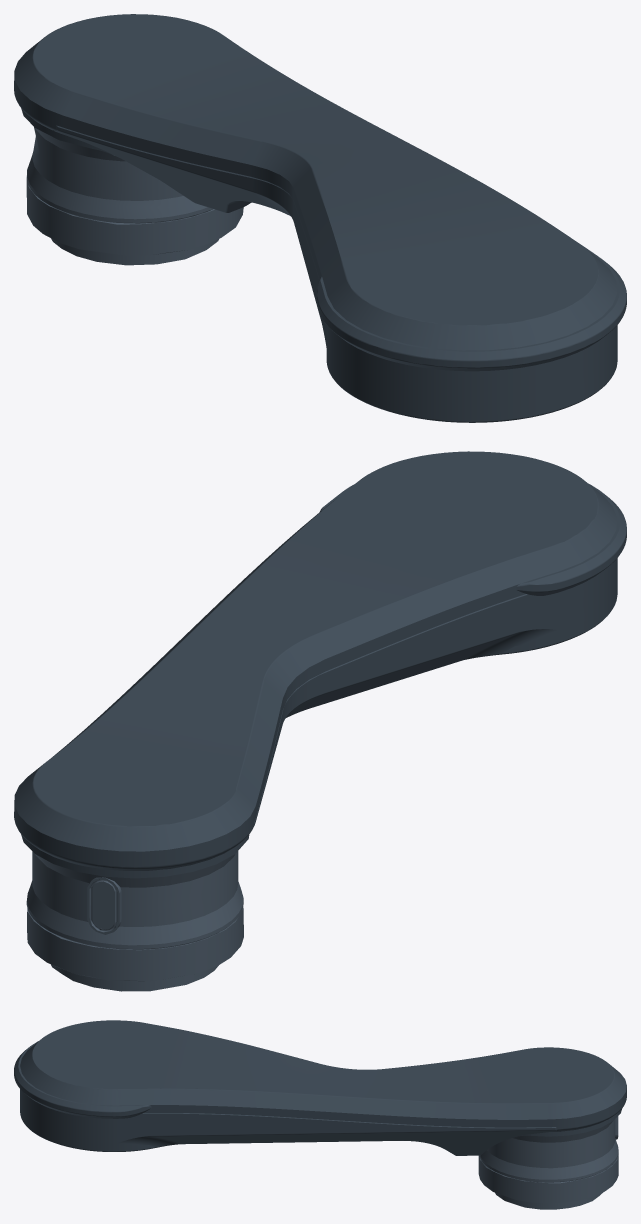
Rendered from fr_knee.obj.
3 renders of one model, top to bottom at view 1: azimuth 30°, elevation 25°; view 2: azimuth 150°, elevation 25°; view 3: azimuth 270°, elevation 25°, orthographic. The views are drawn at different scales.
Parts seen in each view (by area): view 1: 圆角1, 移动面10, 切除-拉伸49, 圆角16; view 2: 圆角1, 移动面10, 切除-拉伸49, 圆角16; view 3: 圆角1, 移动面10, 切除-拉伸49, 圆角16.
Boxes of the visible parts, left/top/right/bottom form: 圆角1: left=14, top=14, right=626, bottom=371; 移动面10: left=21, top=108, right=617, bottom=422; 切除-拉伸49: left=27, top=127, right=212, bottom=223; 圆角16: left=26, top=176, right=243, bottom=265; 圆角1: left=14, top=451, right=626, bottom=870; 移动面10: left=21, top=558, right=617, bottom=878; 切除-拉伸49: left=26, top=851, right=243, bottom=949; 圆角16: left=27, top=908, right=243, bottom=991; 圆角1: left=14, top=1020, right=626, bottom=1131; 移动面10: left=20, top=1089, right=622, bottom=1155; 切除-拉伸49: left=479, top=1116, right=618, bottom=1182; 圆角16: left=478, top=1155, right=618, bottom=1209.
Bounding box in the file's own units: 0.115 × 0.0831 × 0.3525.
